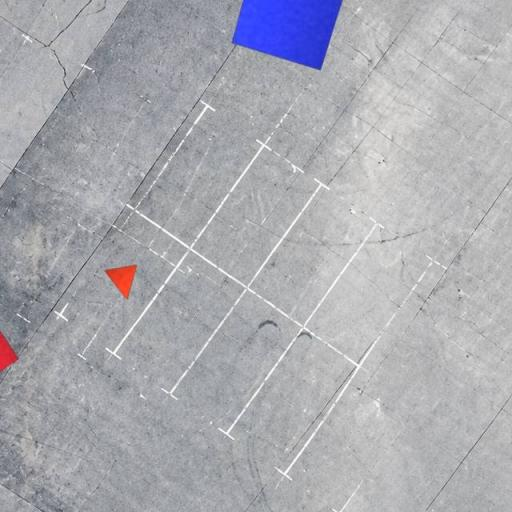BLUE_SQUARE: (231, 0, 347, 71)
RED_SQUARE: (0, 319, 19, 386)
